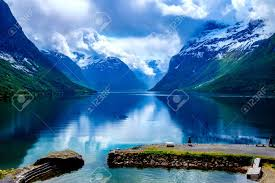lake: (14, 94, 275, 182)
mountain: (6, 30, 275, 86)
sky: (18, 3, 229, 53)
